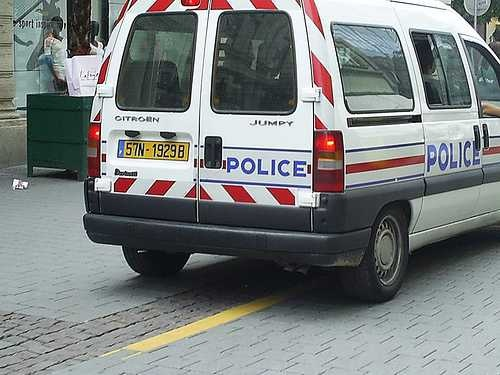Police Van: (77, 5, 500, 319)
